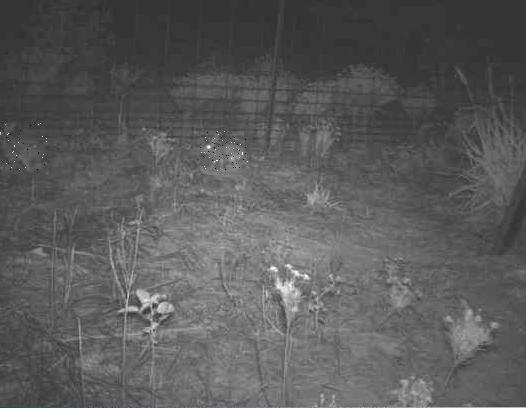Rabbit: (0, 123, 48, 170), (201, 132, 249, 172)
